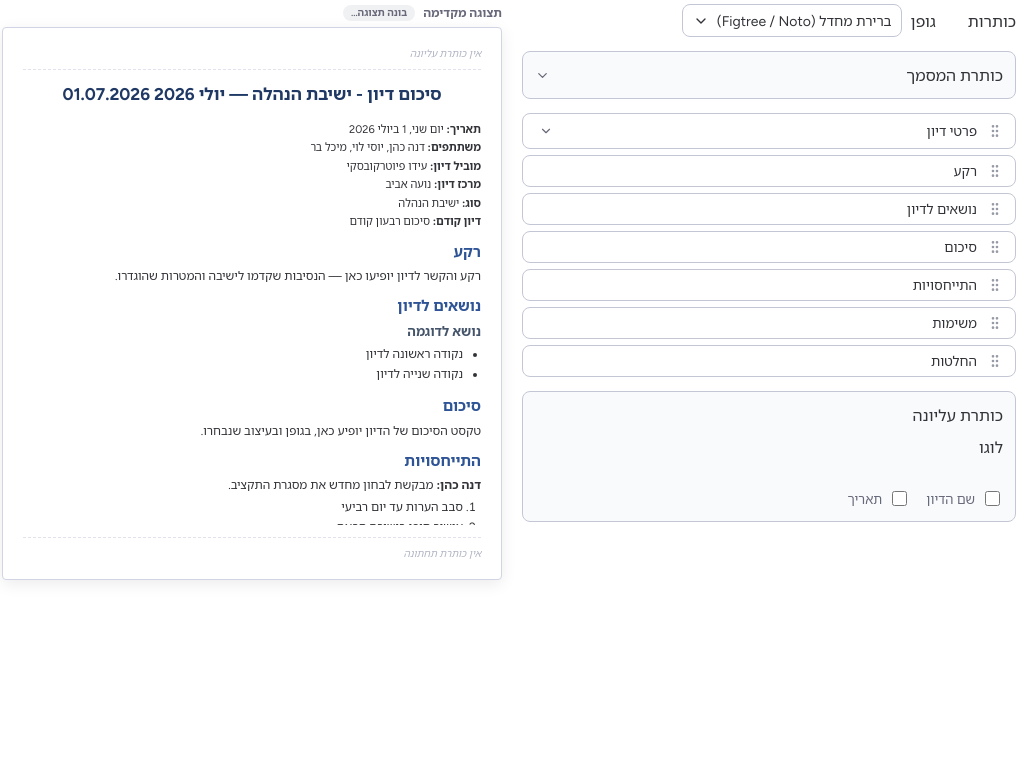
Test: the editor as rendered › offers the per-line choice and the account custom field once the metas load
Step 1. Click the button named "עוד" → [546, 131], box [533,118,559,144]
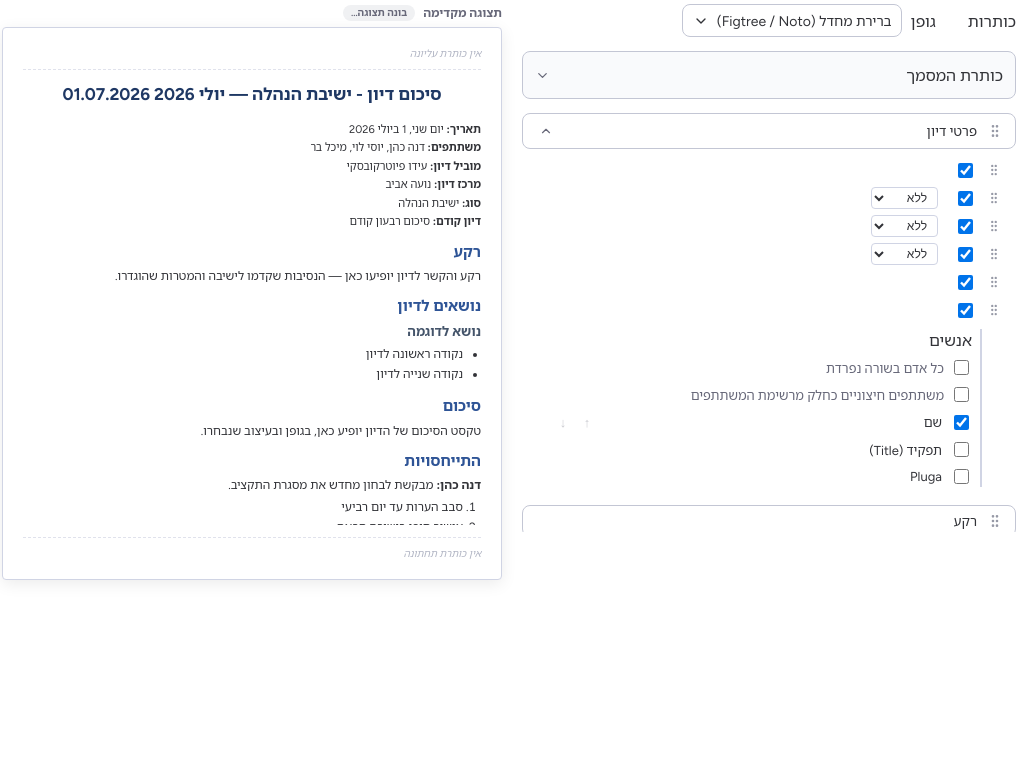
Expected: the text "כל אדם בשורה נפרדת" is shown, [826,358,944,376]
Expected: the text "Pluga" is shown, [910,469,942,484]
Expected: the text "תפקיד (Title)" is shown, [869,442,942,458]
